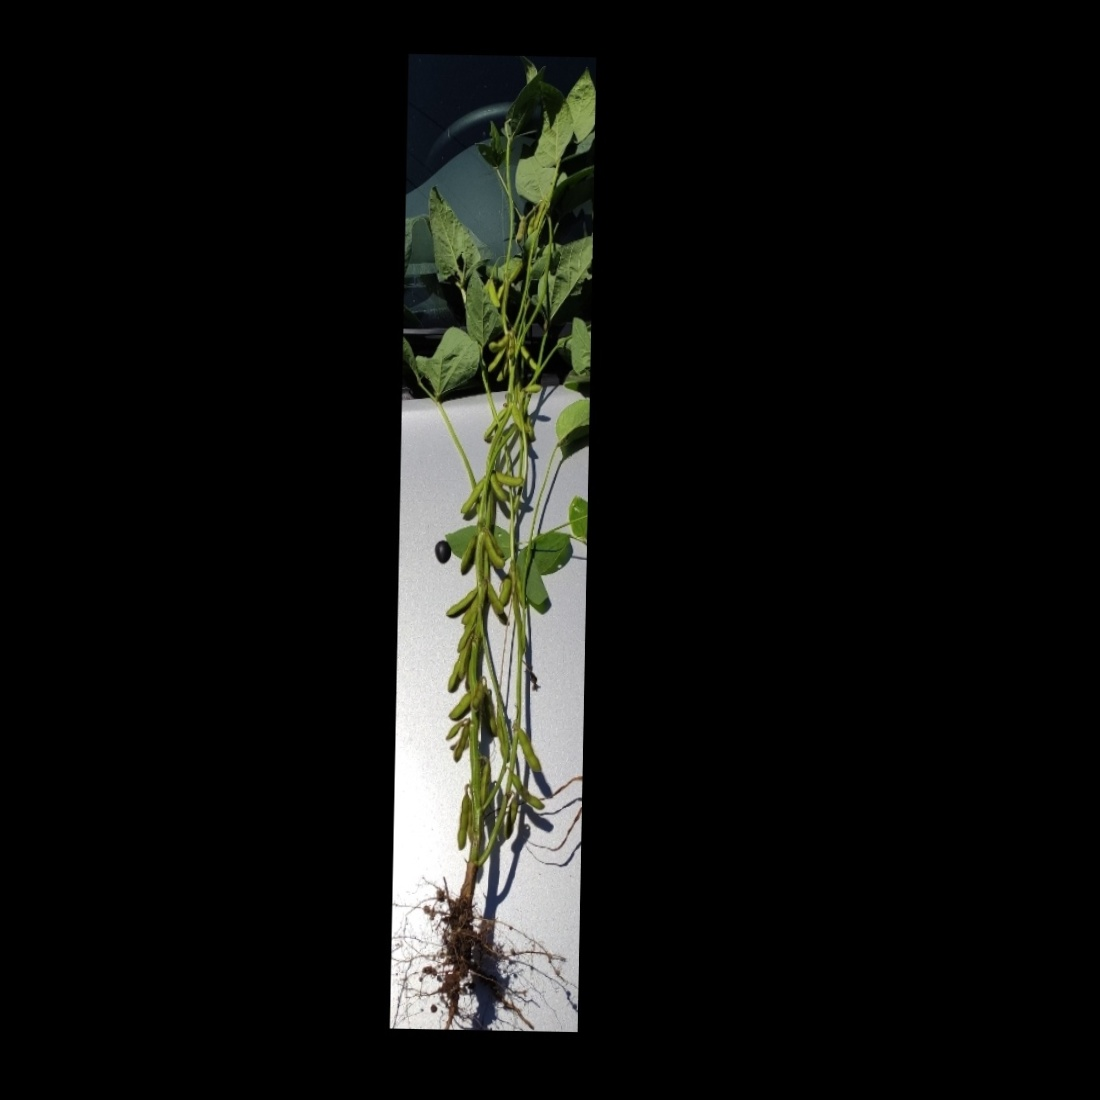pod: (512, 721, 543, 778), (510, 772, 546, 814), (453, 785, 473, 850), (444, 584, 482, 620), (459, 472, 484, 517), (482, 579, 508, 620), (456, 531, 478, 577), (443, 690, 471, 723), (451, 724, 471, 770), (482, 535, 507, 570), (491, 470, 527, 489), (487, 331, 510, 352)
soy: (390, 70, 590, 1015)
